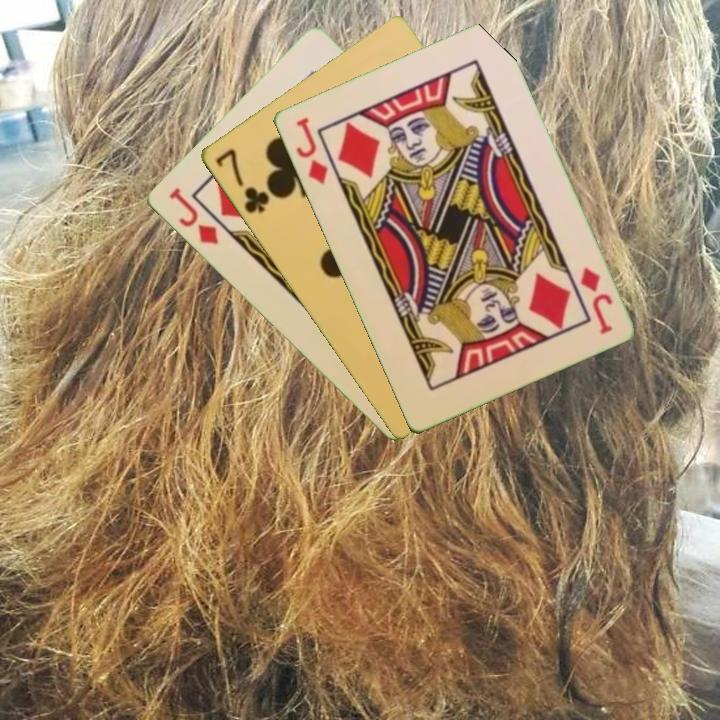7c: (211, 145, 272, 217)
Jd: (164, 184, 221, 248), (575, 263, 615, 337), (292, 113, 330, 188)
